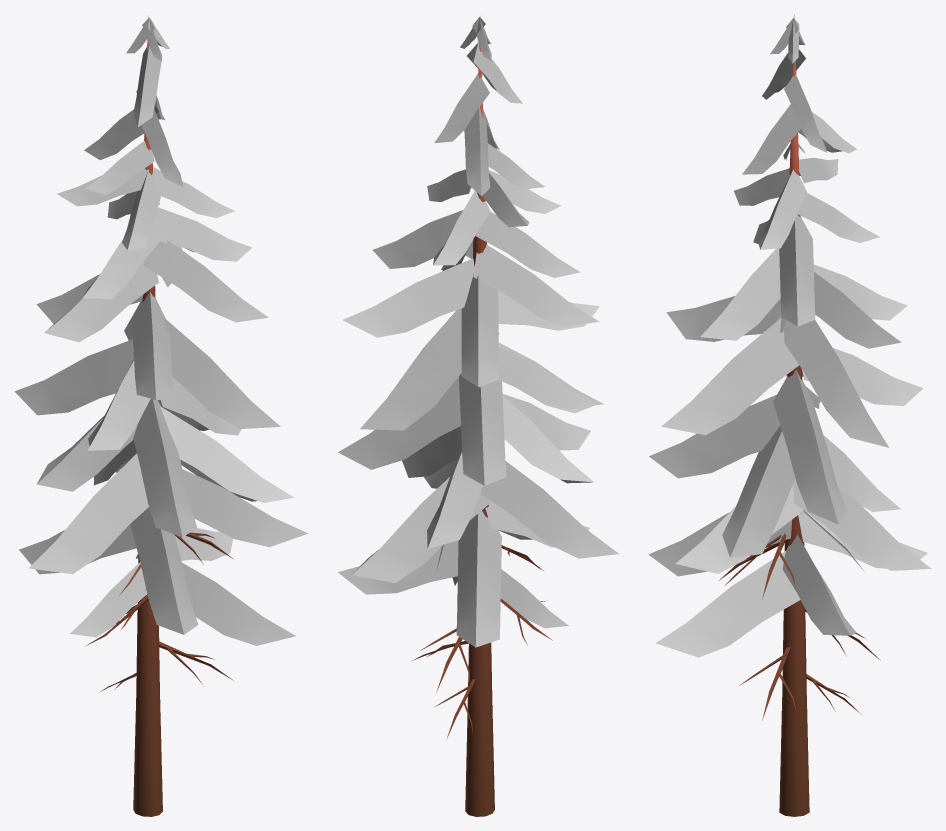
Rendered from Tree1.fbx.
The picture shows the model from 3 angles, left to right: view 1: azimuth 30°, elevation 25°; view 2: azimuth 150°, elevation 25°; view 3: azimuth 270°, elevation 25°; orthographic projection.
Parts seen in each view (by area): view 1: Tree1d; view 2: Tree1d; view 3: Tree1d.
Part boxes in pixels (x1,y1,x2,y2): Tree1d: (14,15,307,816); Tree1d: (338,16,618,816); Tree1d: (648,14,931,816).
Size of the model in its own units: 8.01 by 24.38 by 7.86.
